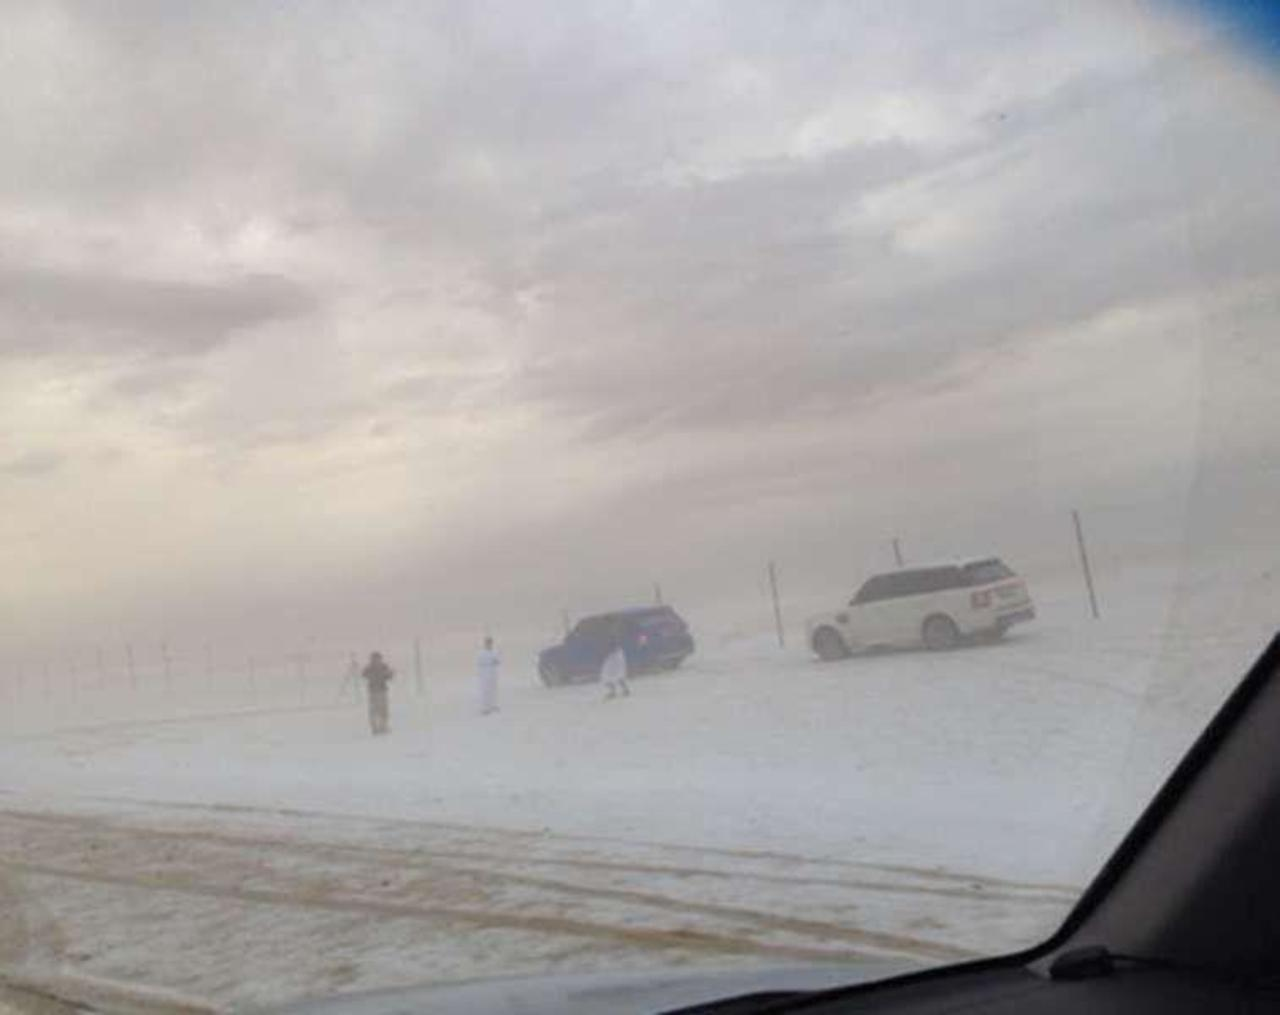car: (810, 556, 1033, 661), (535, 598, 691, 689)
person: (359, 651, 398, 734), (597, 614, 630, 703), (473, 637, 503, 717)
